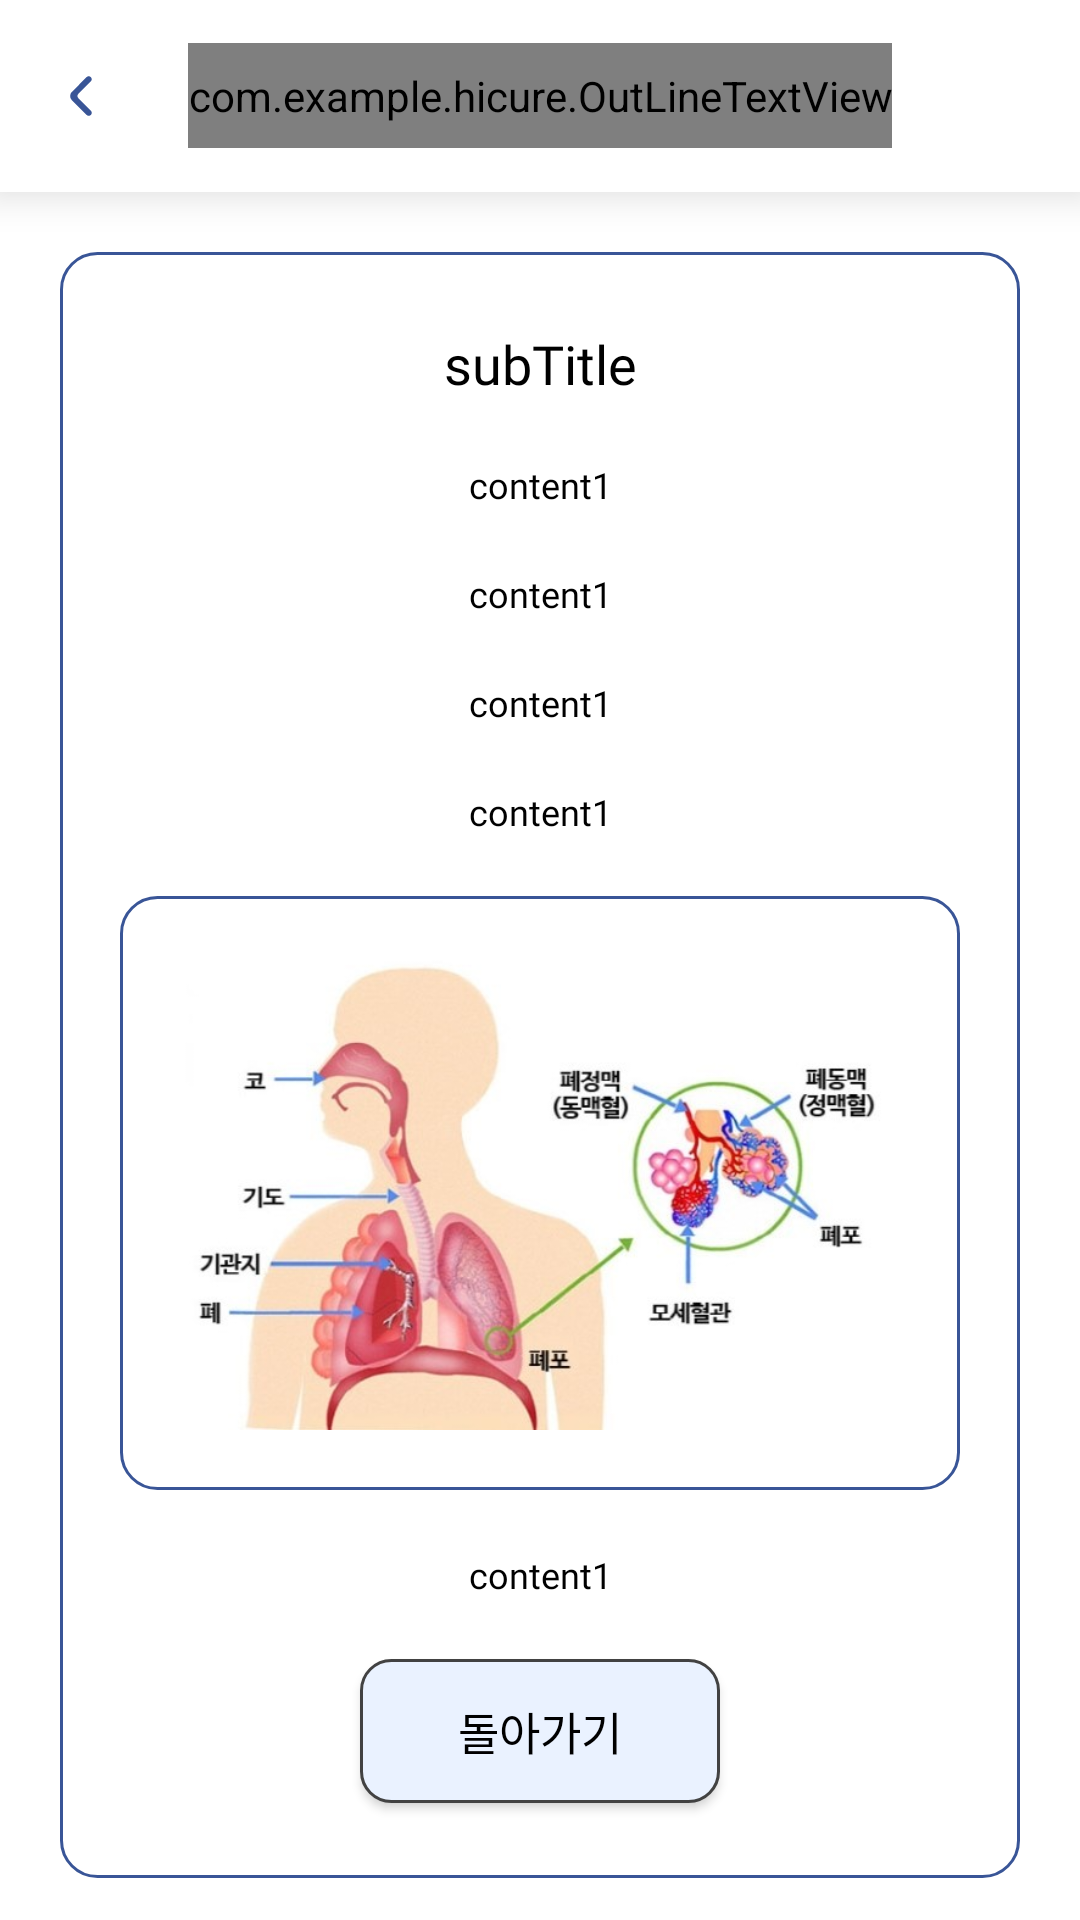

Point at icon controls on the screen. Image size 1080px x 1920px, points as [x,y].
back: [81,96]
